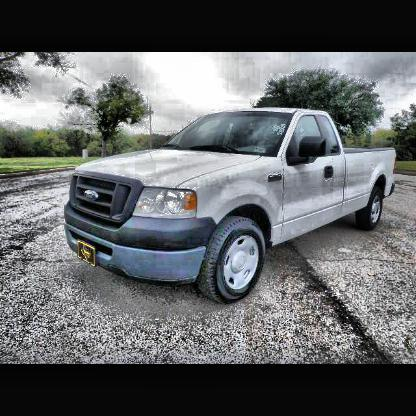Ford F-150 Regular Cab 2007: (62, 108, 398, 307)
